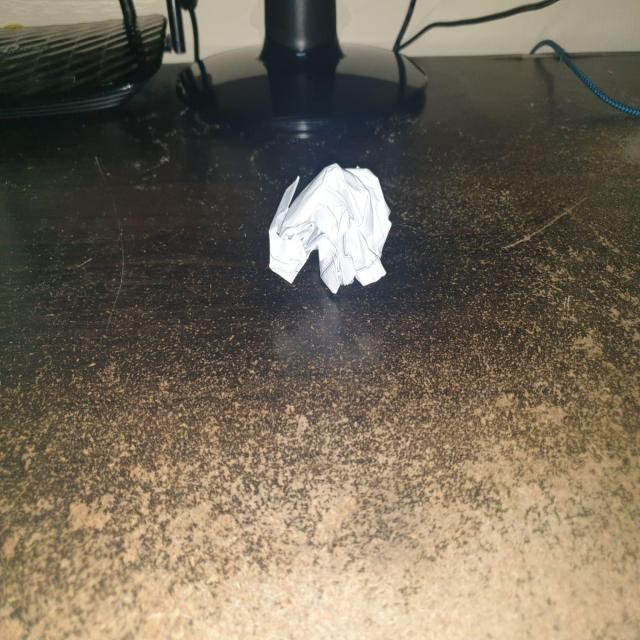cardboard paper: (268, 163, 389, 291)
